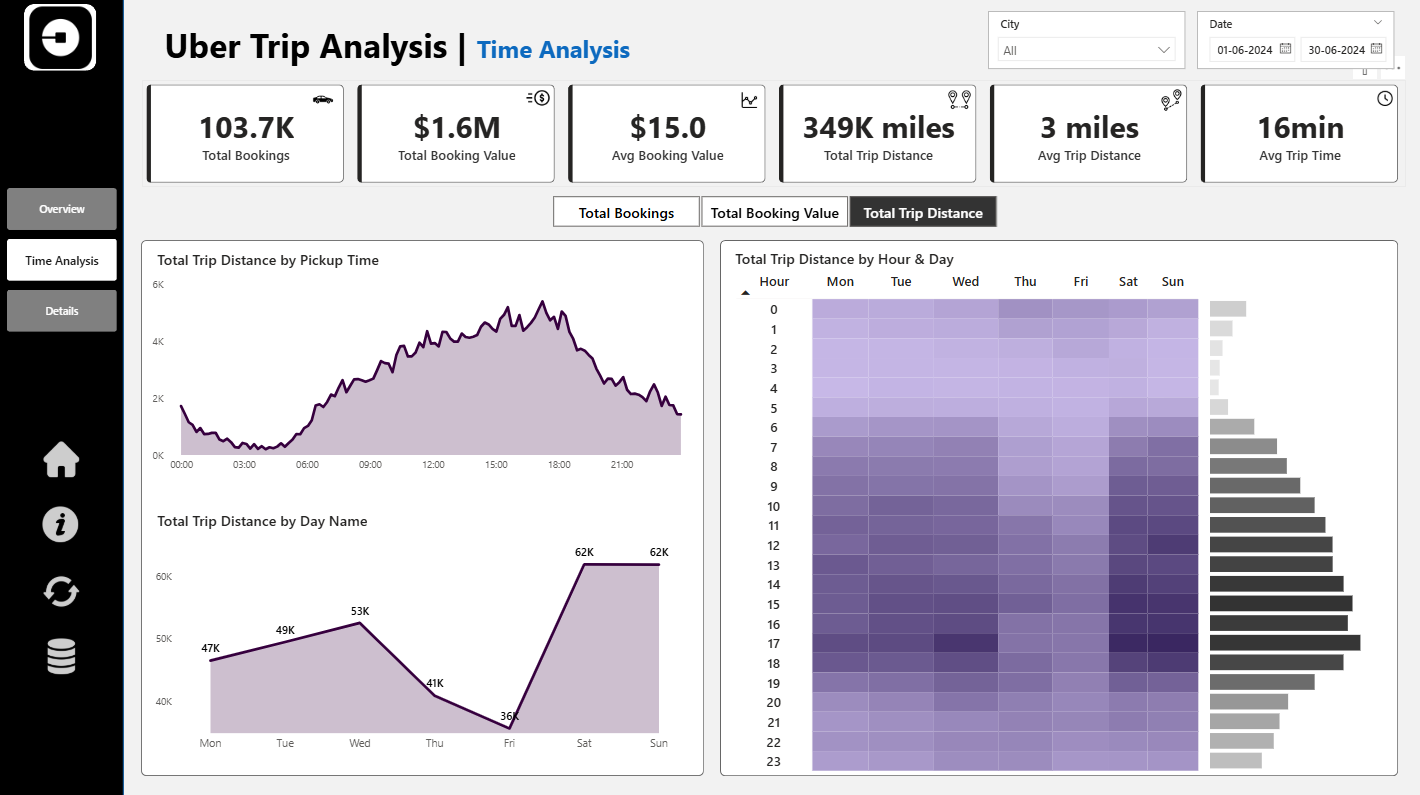

The page's visual inventory and layout, read from the dashboard file:
{"tool":"powerbi","page":{"name":"Time Analysis","canvas":[1600,900],"ordinal":1},"visuals":[{"type":"shape","box":[161.2,272,630.2,600],"z":0},{"type":"shape","box":[0,0,141.8,899.9],"z":1000},{"type":"textbox","box":[182.5,23.5,596.6,73.9],"z":2000},{"type":"cardVisual","fields":{"Data":["Calculation Table.Total Bookings","Calculation Table.Total Booking Amount","Calculation Table.Avg Booking Amount","Calculation Table.Total Trip Distance","Calculation Table.Avg Trip Distance","Calculation Table.Avg Trip Time"]},"box":[162,93,1415,120],"z":3000},{"type":"image","box":[587.2,92.4,36.5,40.1],"z":4000},{"type":"image","box":[1059,97.3,36.5,35.3],"z":5000},{"type":"shape","box":[30.6,7.9,81,74.7],"z":5250,"group":"g1"},{"type":"image","box":[30,6,82,80],"z":5500,"group":"g1"},{"type":"image","box":[1298.5,97.3,34,35.3],"z":6000},{"type":"image","box":[1540.4,93.6,26.7,38.9],"z":7000},{"type":"image","box":[826.7,97.3,30.4,35.3],"z":8000},{"type":"image","box":[342.9,97.3,45,35.3],"z":9000},{"type":"slicer","fields":{"Values":["Dynamic Measure.Dynamic Measure"]},"box":[596.6,216,546.3,48],"z":10000},{"type":"slicer","fields":{"Values":["Calender Table.Date"]},"box":[1343.3,16,221,65],"z":11000},{"type":"slicer","fields":{"Values":["Location Table.City"]},"box":[1109.3,16,220.5,65],"z":12000},{"type":"areaChart","fields":{"Y":["Calculation Table.Total Bookings"],"Category":["Trip Details.Pickup Hour (HH MM SS) (bins)"]},"box":[169,307.8,614.6,234],"z":13000},{"type":"areaChart","fields":{"Y":["Calculation Table.Total Bookings"],"Category":["Calender Table.Day Name"]},"box":[172.5,600.3,607.1,253],"z":14000},{"type":"cardVisual","fields":{"Data":["Trip Details.Title for by Day Name"]},"box":[162.3,549.2,296.2,51.1],"z":15000},{"type":"cardVisual","fields":{"Data":["Trip Details.Title for by pickup time"]},"box":[162.3,257.5,296.6,51.5],"z":16000},{"type":"shape","box":[809.1,272.3,759.1,600.3],"z":17000},{"type":"pivotTable","fields":{"Values":["Calculation Table.Total Bookings"],"Rows":["Trip Details.Pick Up Hour (HH)"],"Columns":["Calender Table.Day Name"]},"box":[822.7,301,568.5,571.9],"z":18000},{"type":"barChart","fields":{"Y":["Calculation Table.Total Bookings"],"Category":["Trip Details.Pick Up Hour (HH)"]},"box":[1358.3,327,189.5,564],"z":19000},{"type":"cardVisual","fields":{"Data":["Trip Details.Title for by Hour & Day"]},"box":[809.1,256.5,296.2,51.1],"z":20000},{"type":"pageNavigator","box":[11,213.2,123,163],"z":21000},{"type":"group","id":"g1","title":"logo","box":[30,6,82,80],"z":22000},{"type":"image","box":[47,493,49.8,49.8],"z":23000},{"type":"image","box":[47,632.5,49.8,65.6],"z":24000},{"type":"image","box":[47,712.9,49.8,49.8],"z":25000},{"type":"group","id":"g2","title":"Group 1","box":[46.2,565,51.3,51.3],"z":26000},{"type":"image","box":[46.2,565,49.9,49.9],"z":31500,"group":"g2"},{"type":"card","fields":{"Values":["Calculation Table.Blank"]},"box":[46.2,565,51.3,51.3],"z":38500,"group":"g2"}]}

Visuals, with their boxes on the page's 1600x900 design canvas (x1, y1, x2, y2). These are canvas units, not pixel positions in the 1420x795 screenshot, which may show the page scaled, cropped or inside an application window:
shape: x1=161 y1=272 x2=791 y2=872
shape: x1=0 y1=0 x2=142 y2=900
textbox: x1=182 y1=24 x2=779 y2=97
cardVisual - Calculation Table.Total Bookings x Calculation Table.Total Booking Amount: x1=162 y1=93 x2=1577 y2=213
image: x1=587 y1=92 x2=624 y2=132
image: x1=1059 y1=97 x2=1096 y2=133
shape: x1=31 y1=8 x2=112 y2=83
image: x1=30 y1=6 x2=112 y2=86
image: x1=1298 y1=97 x2=1332 y2=133
image: x1=1540 y1=94 x2=1567 y2=132
image: x1=827 y1=97 x2=857 y2=133
image: x1=343 y1=97 x2=388 y2=133
slicer - Dynamic Measure.Dynamic Measure: x1=597 y1=216 x2=1143 y2=264
slicer - Calender Table.Date: x1=1343 y1=16 x2=1564 y2=81
slicer - Location Table.City: x1=1109 y1=16 x2=1330 y2=81
areaChart - Calculation Table.Total Bookings x Trip Details.Pickup Hour (HH MM SS) (bins): x1=169 y1=308 x2=784 y2=542
areaChart - Calculation Table.Total Bookings x Calender Table.Day Name: x1=172 y1=600 x2=780 y2=853
cardVisual - Trip Details.Title for by Day Name: x1=162 y1=549 x2=458 y2=600
cardVisual - Trip Details.Title for by pickup time: x1=162 y1=258 x2=459 y2=309
shape: x1=809 y1=272 x2=1568 y2=873
pivotTable - Calculation Table.Total Bookings x Trip Details.Pick Up Hour (HH): x1=823 y1=301 x2=1391 y2=873
barChart - Calculation Table.Total Bookings x Trip Details.Pick Up Hour (HH): x1=1358 y1=327 x2=1548 y2=891
cardVisual - Trip Details.Title for by Hour & Day: x1=809 y1=256 x2=1105 y2=308
pageNavigator: x1=11 y1=213 x2=134 y2=376
"logo" group: x1=30 y1=6 x2=112 y2=86
image: x1=47 y1=493 x2=97 y2=543
image: x1=47 y1=632 x2=97 y2=698
image: x1=47 y1=713 x2=97 y2=763
"Group 1" group: x1=46 y1=565 x2=98 y2=616
image: x1=46 y1=565 x2=96 y2=615
card - Calculation Table.Blank: x1=46 y1=565 x2=98 y2=616
